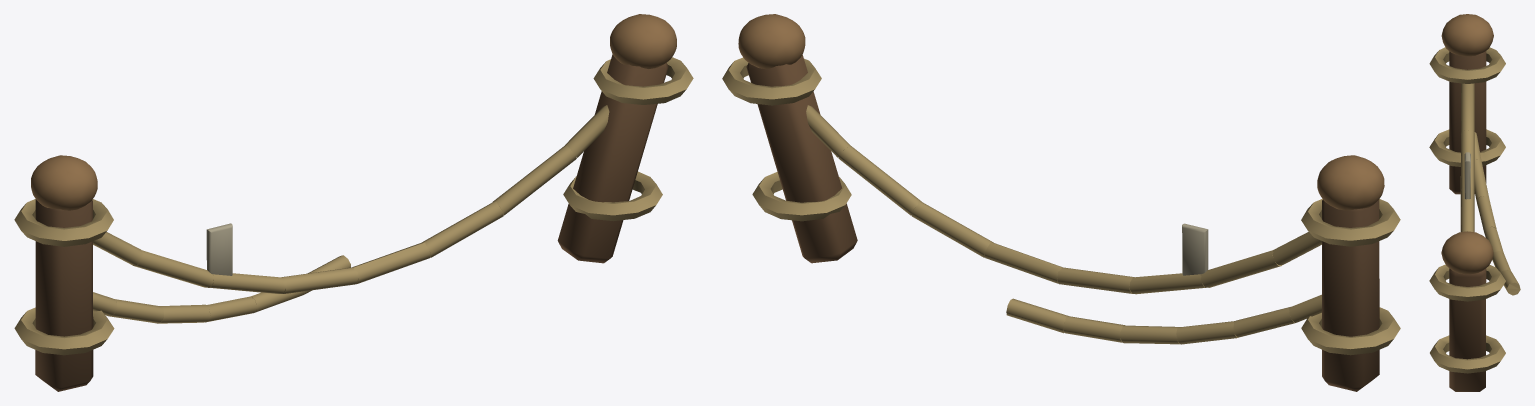
File: rope_fence_b.glb
3 views of the same model, side by side, from view 1: azimuth 30°, elevation 25°; view 2: azimuth 150°, elevation 25°; view 3: azimuth 270°, elevation 25° (orthographic). The views are drawn at different scales.
Parts seen in each view (by area): view 1: Surface; view 2: Surface; view 3: Surface.
Boxes of the visible parts, x1=… form: Surface: x1=14, y1=14, x2=693, y2=391; Surface: x1=722, y1=14, x2=1400, y2=391; Surface: x1=1429, y1=14, x2=1520, y2=391.
Bounding box in the file's own units: 3.85 × 1.26 × 0.5954.
